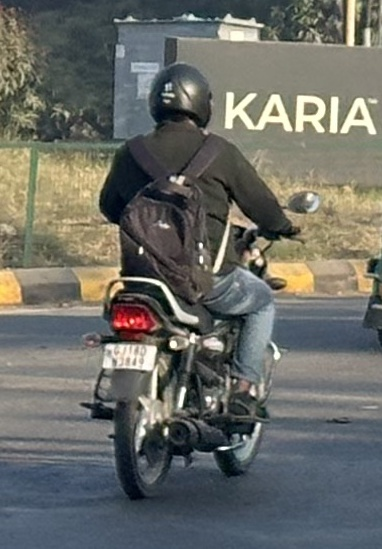BikeWithRider: (73, 56, 325, 506)
Helmet: (141, 57, 217, 135)
